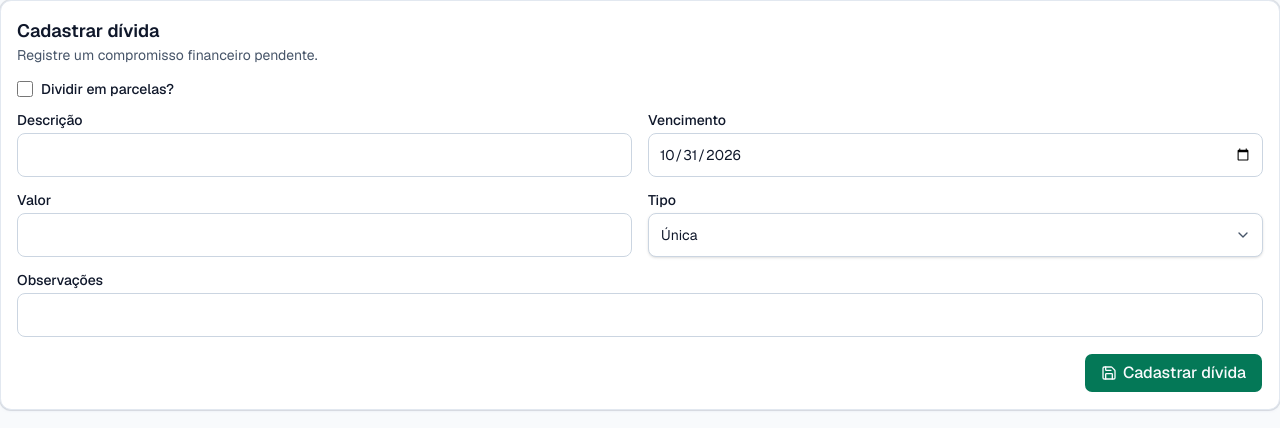
Test: DebtForm › should show the installment count select and hide the type select when "Dividir em parcelas?" is checked
Expected: the dropdown labelled "Tipo" is shown, [648, 213, 1263, 257]
Expected: the field labelled "Número de parcelas" is not shown
Click the checkbox labelled "Dividir em parcelas?" at (25, 89), box [17, 81, 33, 97]
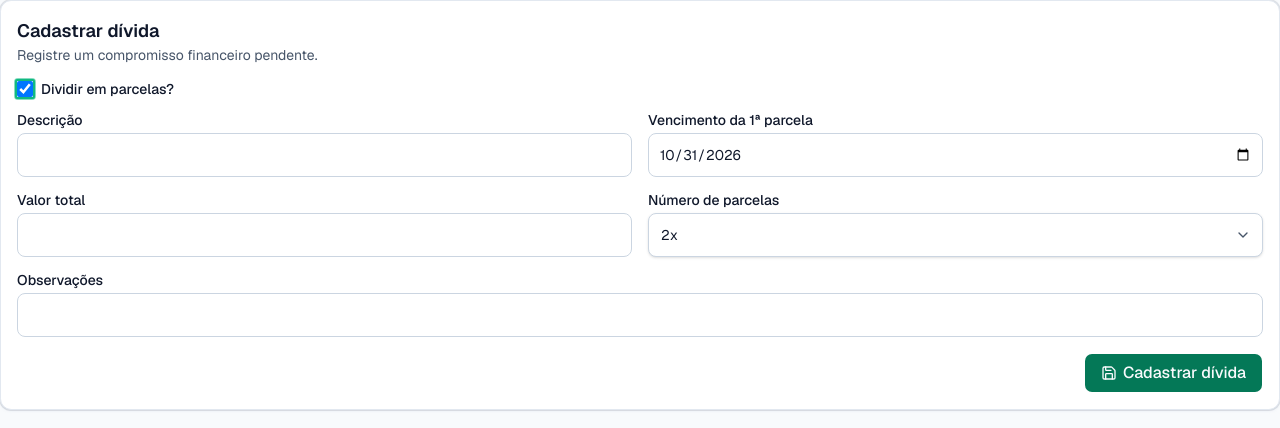
Expected: the dropdown labelled "Número de parcelas" is shown, [648, 213, 1263, 257]
Expected: the label labelled "Tipo" is gone
